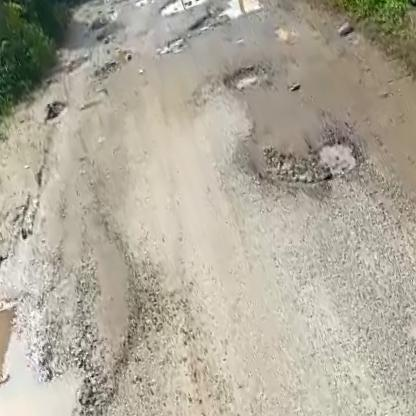pothole: (266, 131, 365, 198), (221, 57, 271, 92), (213, 0, 264, 25), (155, 0, 210, 20)
